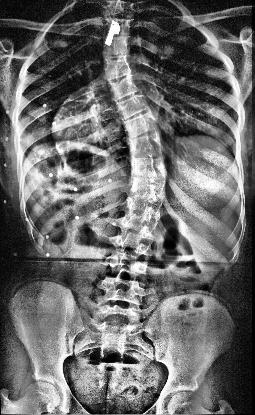Vertebrae: (106, 248, 150, 276), (101, 278, 147, 304), (111, 230, 153, 256), (96, 303, 142, 326), (116, 216, 158, 238), (124, 193, 164, 216), (127, 135, 165, 159), (130, 158, 168, 180), (124, 114, 160, 137), (106, 78, 142, 100), (130, 177, 166, 199), (117, 96, 150, 118), (101, 59, 135, 78), (106, 18, 136, 38), (106, 0, 138, 18), (104, 38, 132, 56)
